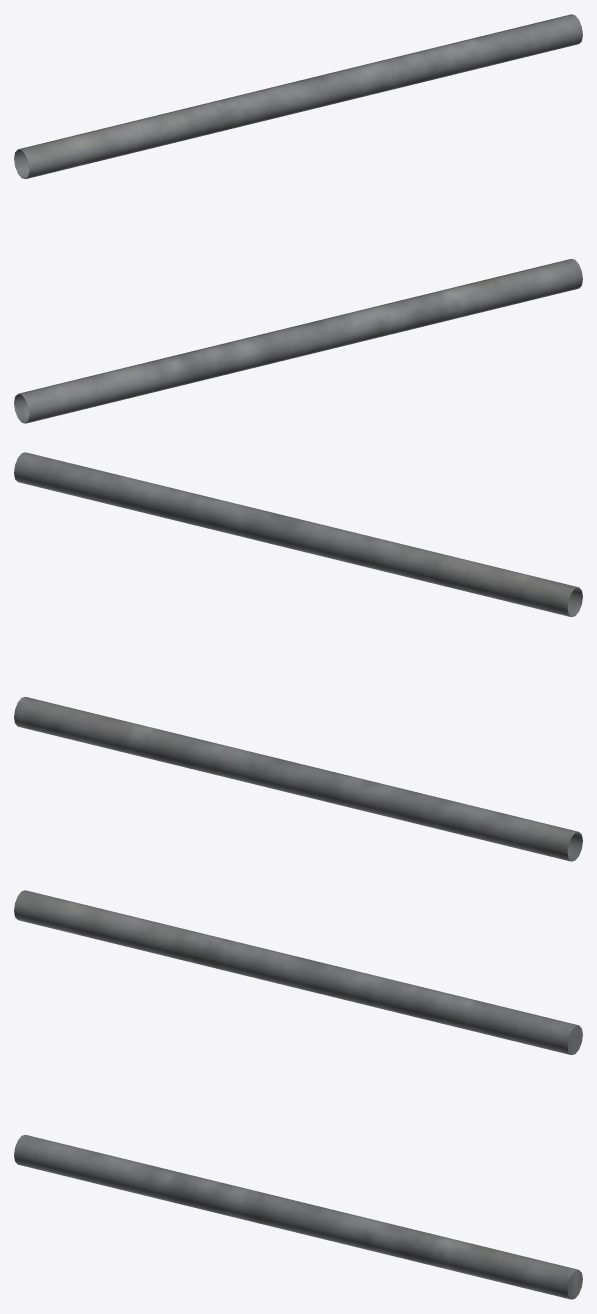
Rendered from pedReach-v1-galvanised.glb.
The picture shows the model from 3 angles, top to bottom: view 1: azimuth 30°, elevation 25°; view 2: azimuth 150°, elevation 25°; view 3: azimuth 330°, elevation 25°; orthographic projection.
Parts seen in each view (by area): view 1: pedReach-v1-galvanised; view 2: pedReach-v1-galvanised; view 3: pedReach-v1-galvanised.
Part boxes in pixels (x1,y1,x2,y2): pedReach-v1-galvanised: (14,14,582,423); pedReach-v1-galvanised: (14,452,582,861); pedReach-v1-galvanised: (14,890,582,1299).
Size of the model in its own units: 1 by 0.4703 by 0.0483.
Materials: 1 (1 with a texture image).
